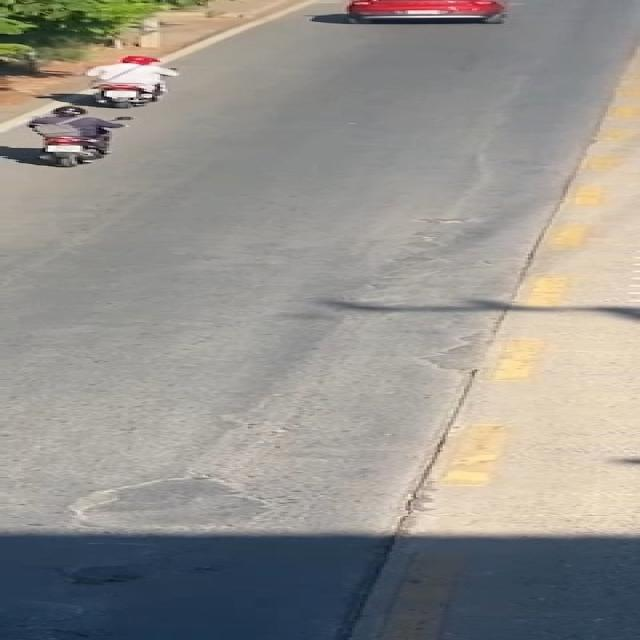car: (301, 0, 537, 27)
